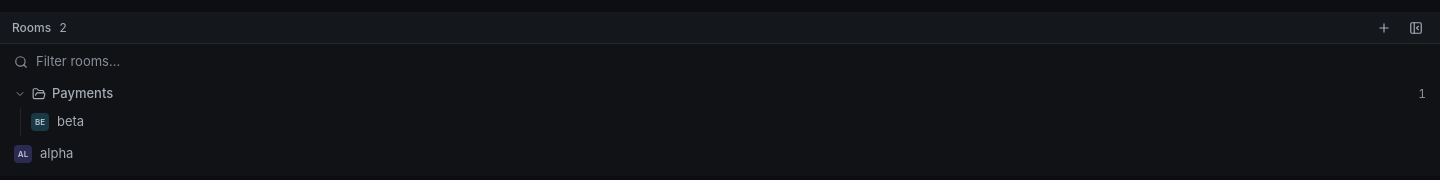
Scenario: <RoomsSidebar /> folders › folds a folder and remembers it
Click the button with aria-label "Payments folder, 1 room". click: [83, 93]
box: left=8, top=80, right=1432, bottom=108
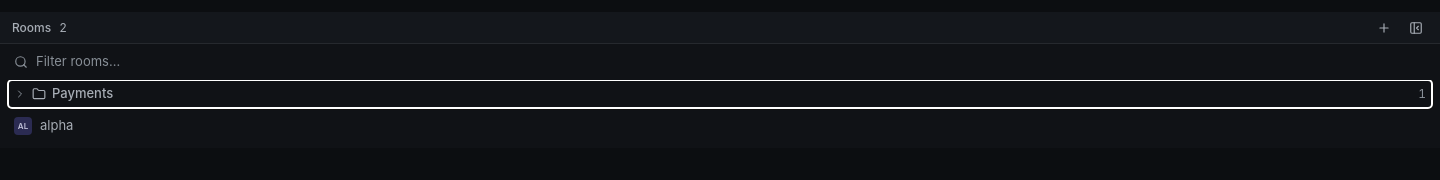
Result: the link "beta" is gone
